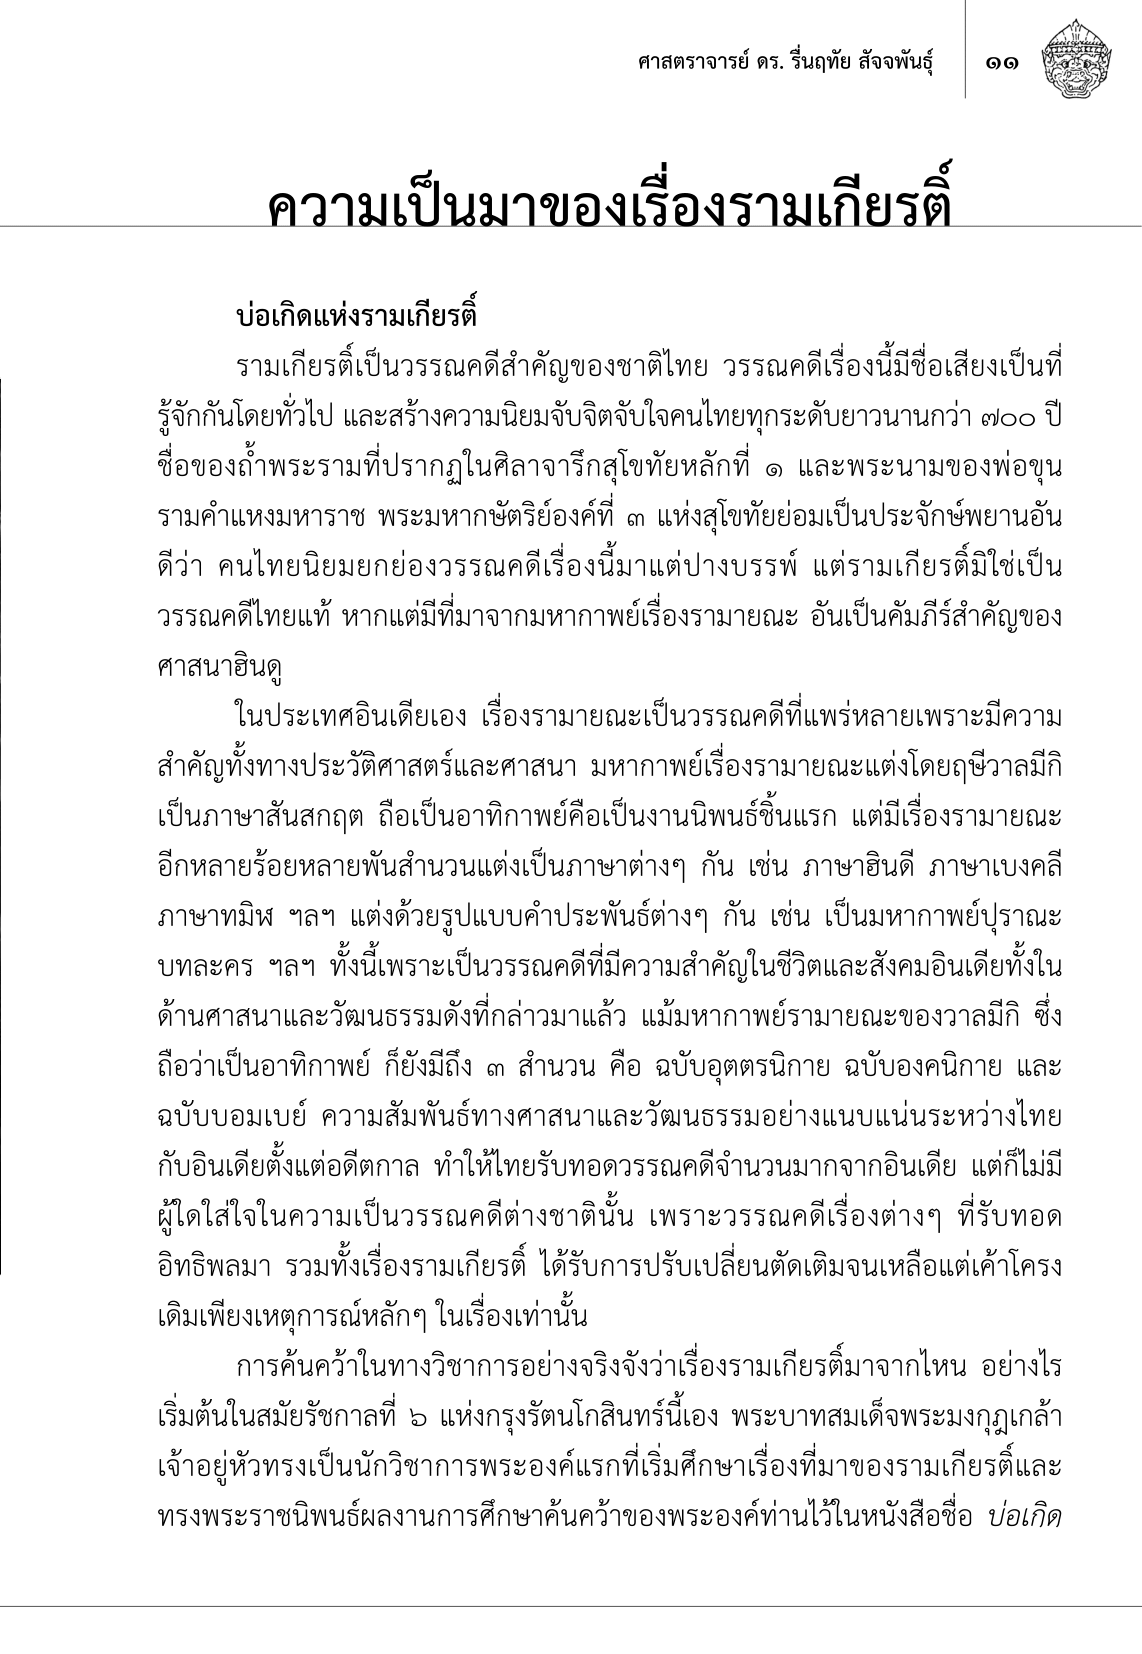thai: (153, 987, 1067, 1340), (151, 341, 1067, 687), (150, 687, 1065, 980), (155, 1342, 1067, 1543), (266, 150, 956, 231), (232, 284, 479, 336), (637, 41, 937, 80), (982, 50, 1020, 77)
